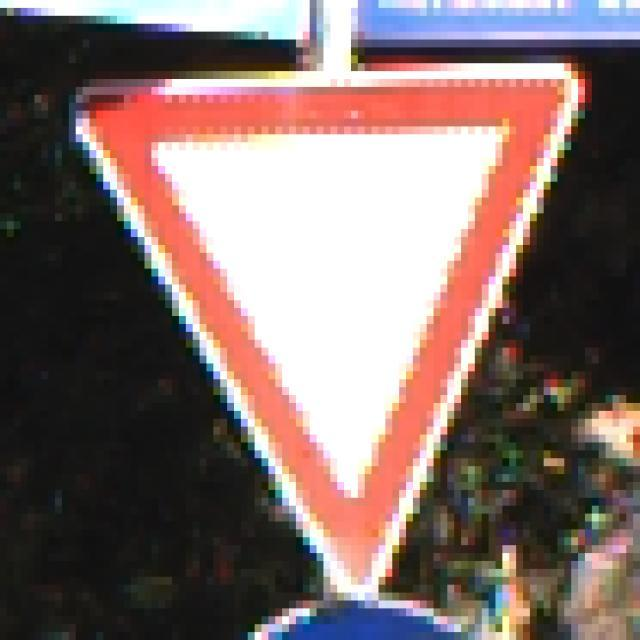give way: (68, 57, 614, 601)
